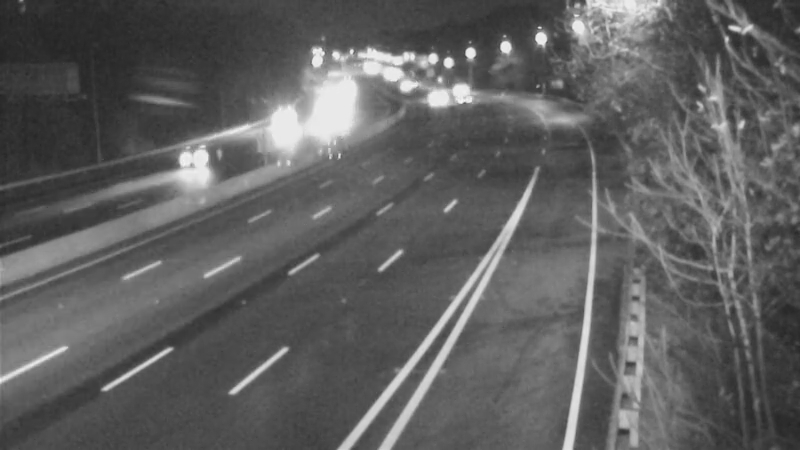vehicle: (137, 119, 217, 199), (437, 63, 487, 113), (410, 72, 460, 122), (436, 74, 486, 124), (250, 106, 300, 156)
